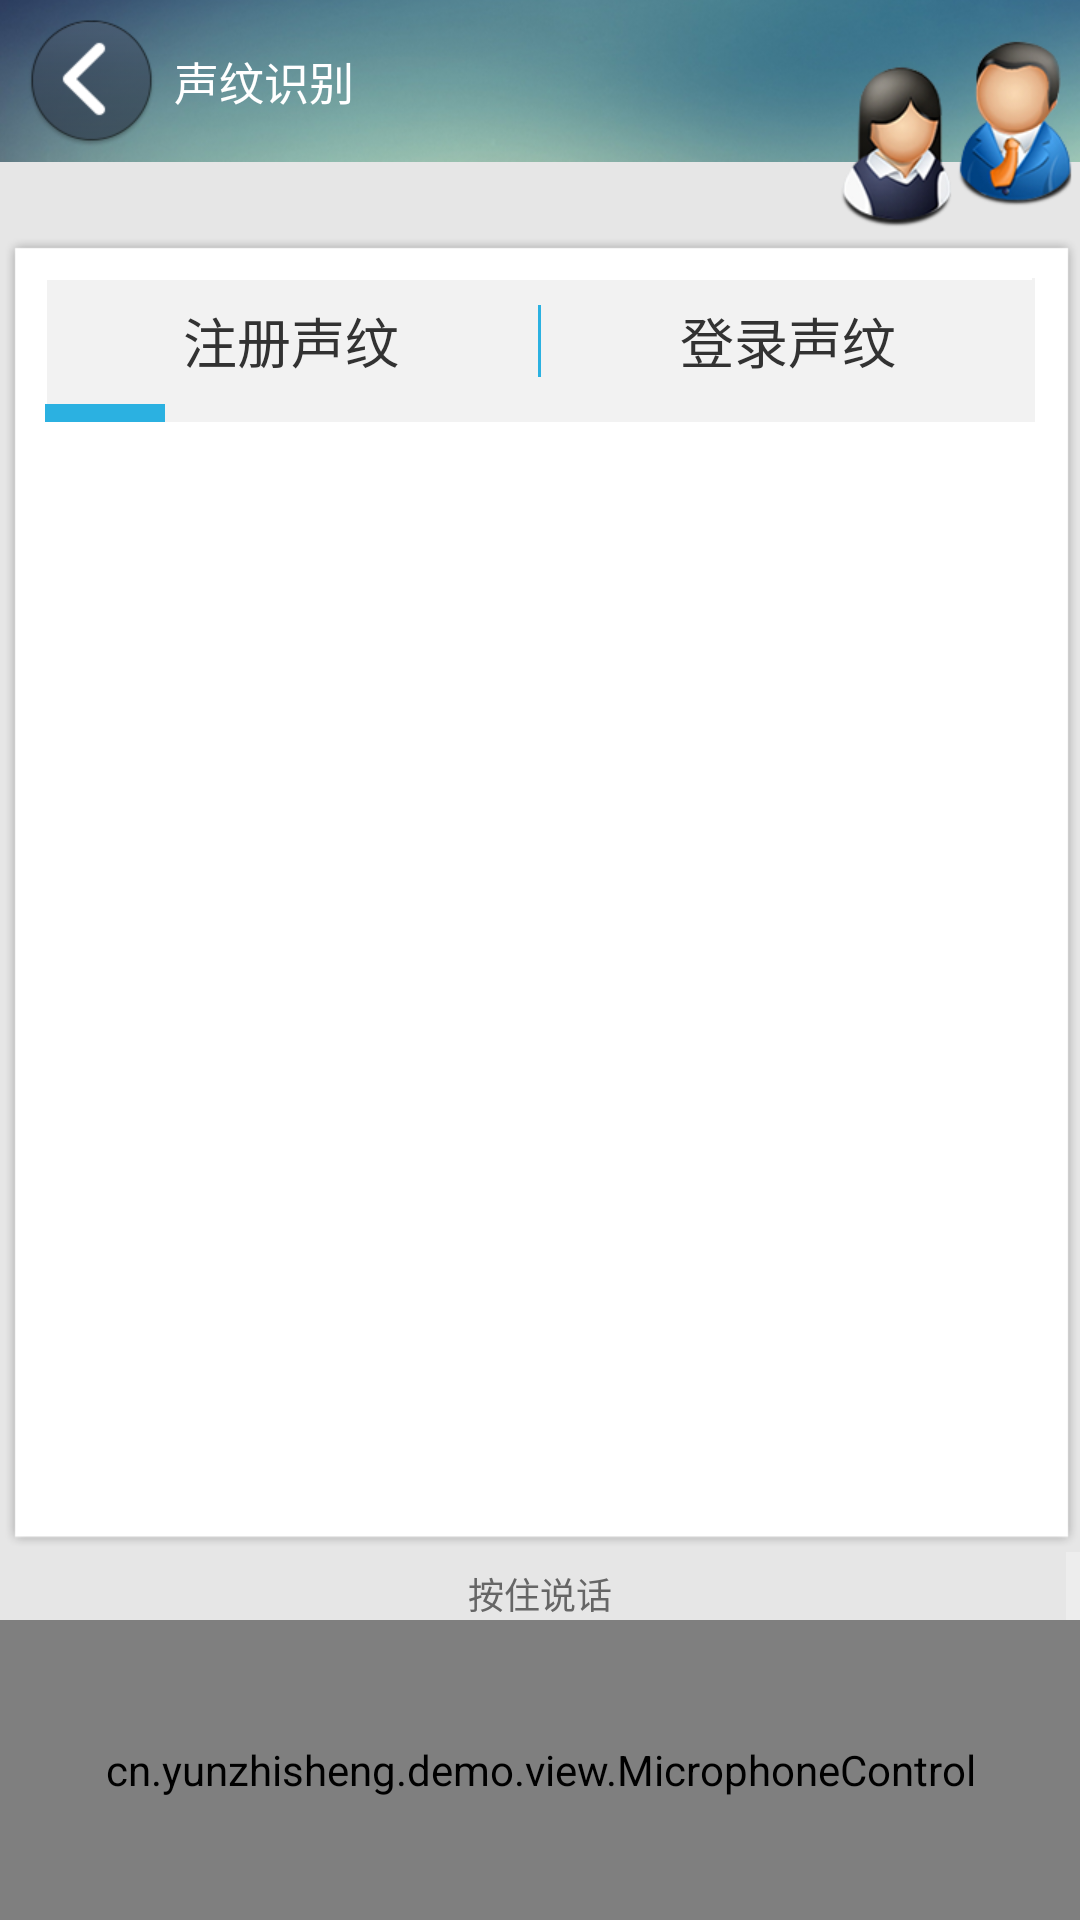

Where to tap for icons on this 1080px x 1920px app screen, as (x,y):
back: (91,80)
